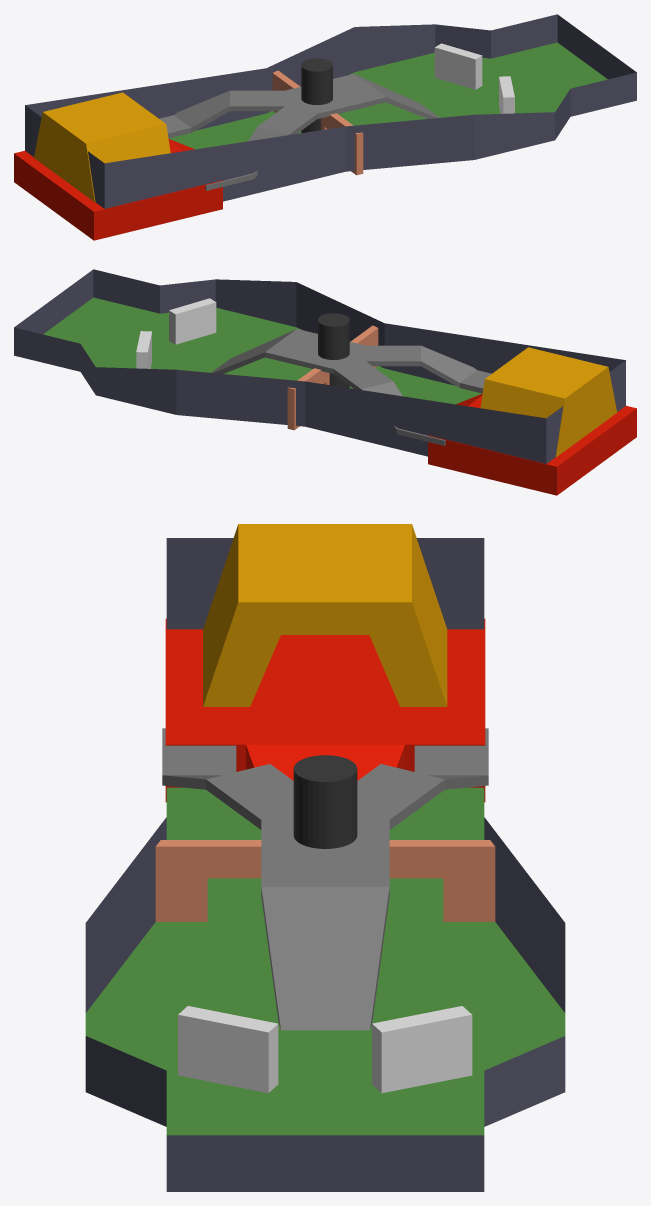
The model's file is OverUnder.glb.
3 views of the same model, one above another, from view 1: azimuth 30°, elevation 25°; view 2: azimuth 150°, elevation 25°; view 3: azimuth 270°, elevation 25° (orthographic). The views are drawn at different scales.
Parts seen in each view (by area): view 1: Walls, Floor, room, Bridge, StartRamp, Cube, Pillar, Middlewall; view 2: Walls, Floor, room, Bridge, StartRamp, Cube, Pillar, Middlewall; view 3: Floor, Walls, Bridge, room, StartRamp, Cube, Middlewall, Pillar.
Boxes of the visible parts, x1=… form: Walls: x1=25, y1=14, x2=636, y2=208; Floor: x1=169, y1=42, x2=607, y2=149; room: x1=34, y1=92, x2=170, y2=202; Bridge: x1=159, y1=74, x2=439, y2=190; StartRamp: x1=14, y1=139, x2=222, y2=240; Cube: x1=434, y1=43, x2=514, y2=113; Pillar: x1=301, y1=58, x2=332, y2=133; Middlewall: x1=272, y1=70, x2=363, y2=175; Walls: x1=14, y1=269, x2=625, y2=463; Floor: x1=43, y1=297, x2=481, y2=404; room: x1=480, y1=347, x2=617, y2=457; Bridge: x1=211, y1=329, x2=491, y2=445; StartRamp: x1=428, y1=393, x2=636, y2=495; Cube: x1=136, y1=298, x2=216, y2=368; Pillar: x1=318, y1=313, x2=349, y2=388; Middlewall: x1=287, y1=325, x2=378, y2=430; Floor: x1=85, y1=787, x2=565, y2=1135; Walls: x1=85, y1=538, x2=565, y2=1191; Bridge: x1=162, y1=728, x2=488, y2=1030; room: x1=203, y1=524, x2=447, y2=706; StartRamp: x1=165, y1=618, x2=485, y2=802; Cube: x1=178, y1=1006, x2=472, y2=1093; Middlewall: x1=155, y1=840, x2=495, y2=921; Pillar: x1=293, y1=755, x2=357, y2=848.
Bounding box in the file's own units: 170 × 29.25 × 65.17.
